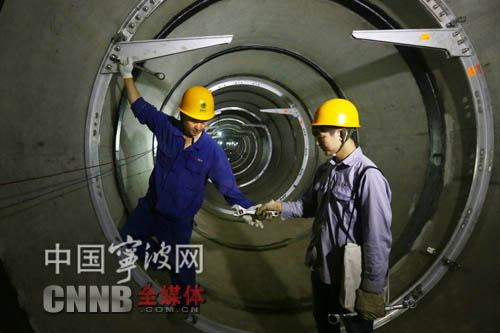gloves: (354, 287, 386, 320), (230, 203, 263, 225), (255, 198, 282, 219), (118, 56, 134, 79)
hard-hat: (311, 97, 361, 127), (178, 84, 216, 120)
person: (116, 54, 263, 324), (254, 97, 393, 333)
ppe-suit: (118, 94, 256, 292), (280, 145, 394, 331)
